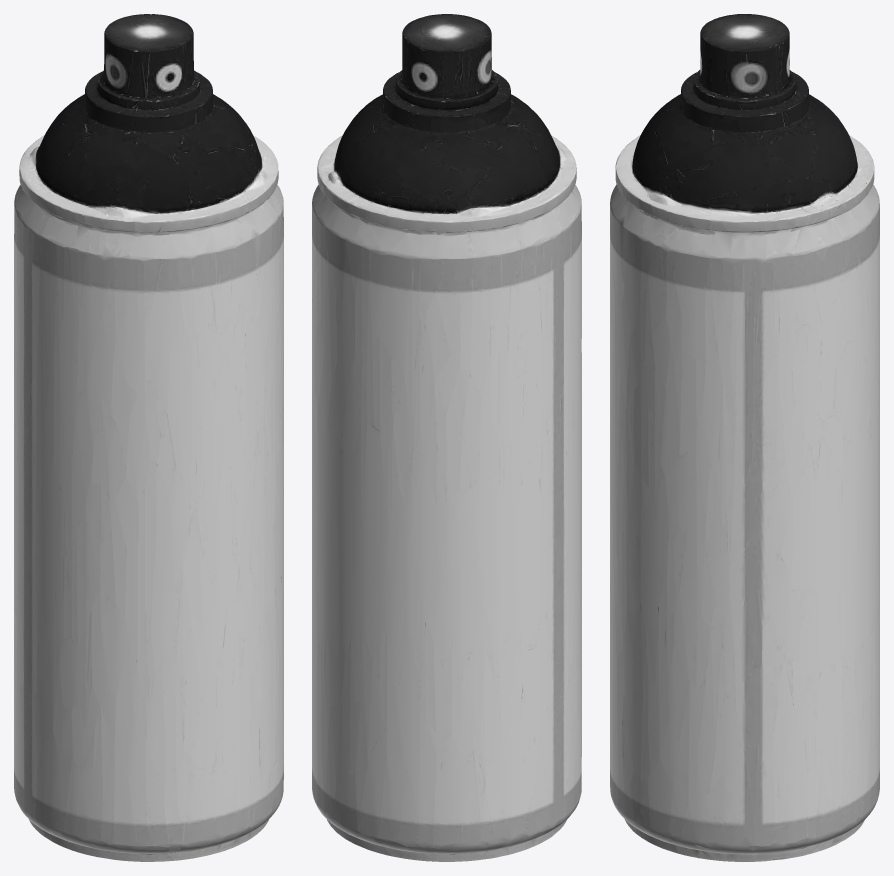
Rendered from tool-spraycan.glb.
3 views of the same model, side by side, from view 1: azimuth 30°, elevation 25°; view 2: azimuth 150°, elevation 25°; view 3: azimuth 270°, elevation 25° (orthographic).
Bounding box in the file's own units: 0.5969 × 1.9 × 0.5969.
Materials: 1 (1 with a texture image).
